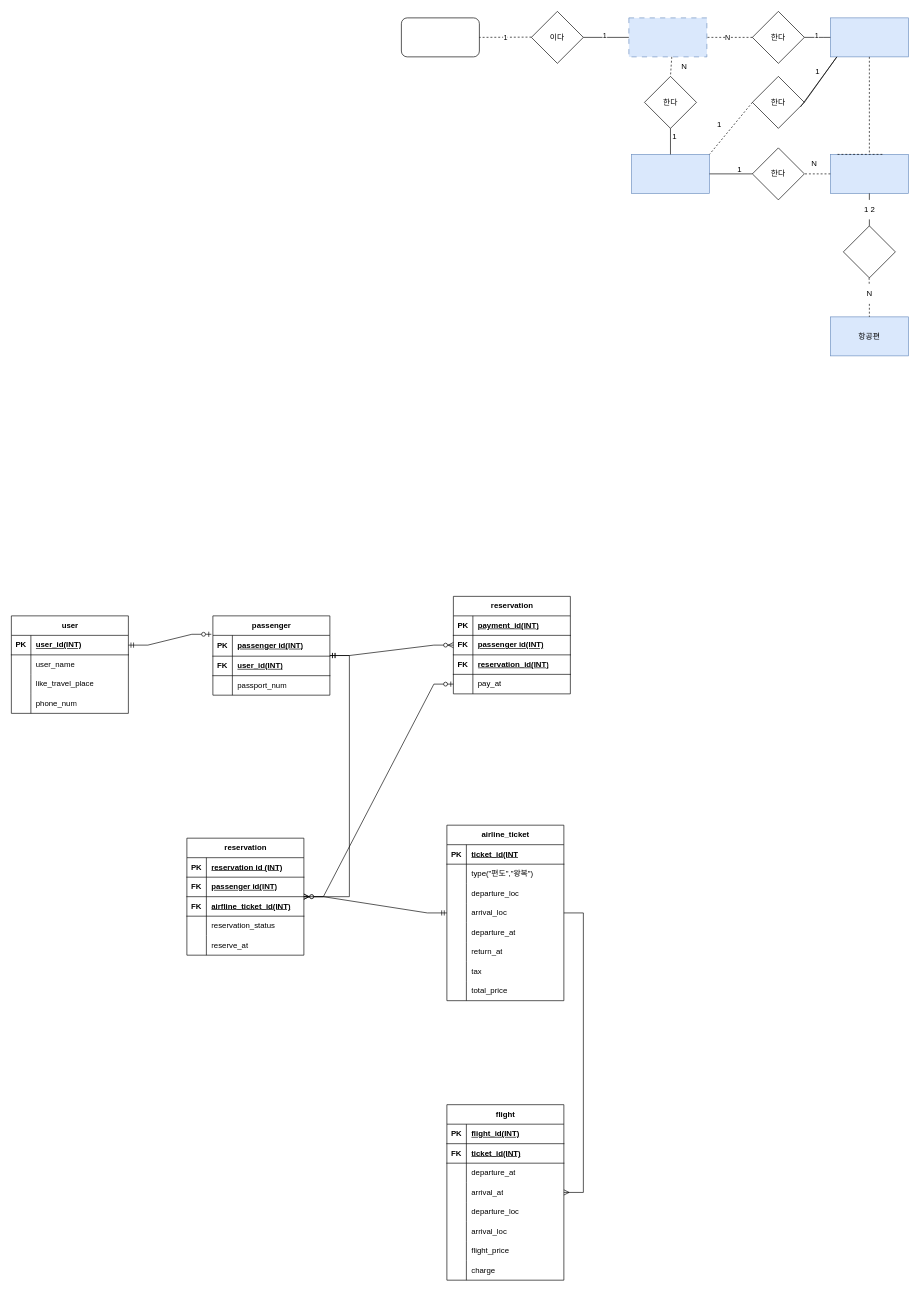
This 920x1292 diagram has some shape labels left out. Each missing label, with the centre of its shape:
결제: [869,37]
속한다: [869,251]
승객: [667,37]
예약: [670,173]
유저: [440,37]
헝공권: [869,173]
